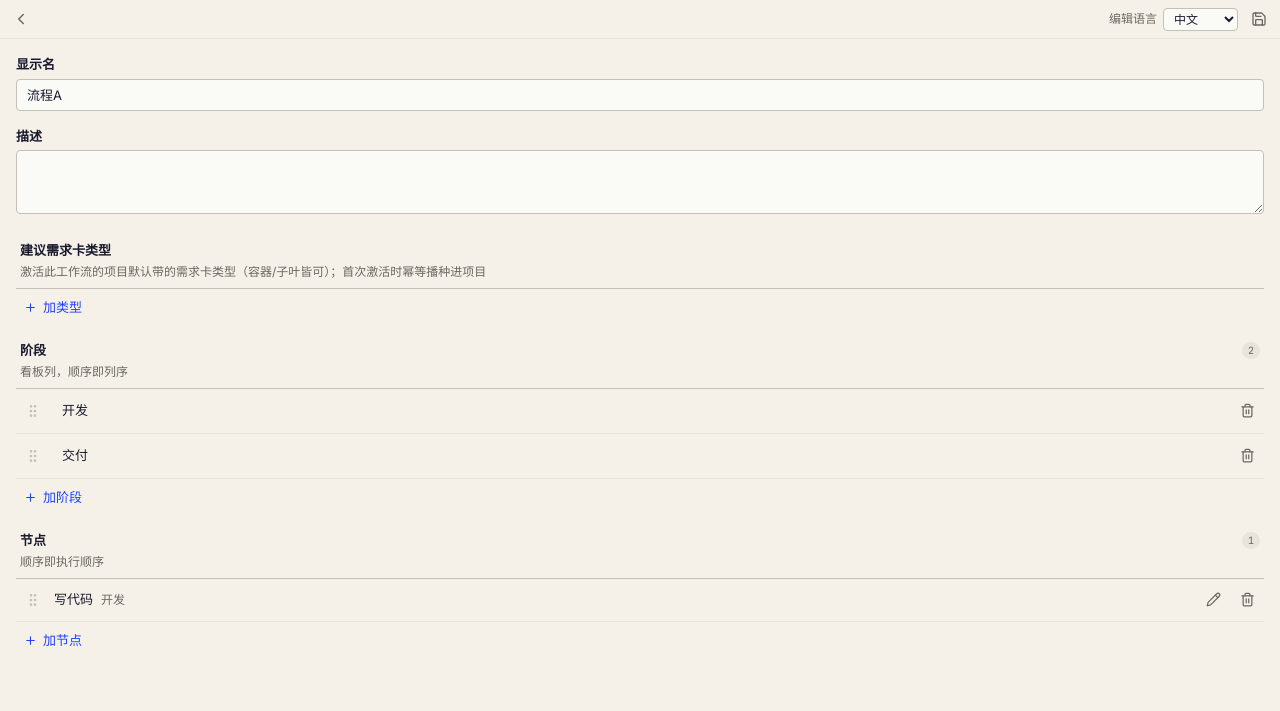
Test: WorkflowEditor 表单编辑 › 加产出：file 路径输入 + 模板只「不声明/从规则库引用」
Step 1. Click the button named "编辑节点 写代码" → {"x": 1213, "y": 600}, box [1200,586,1226,612]
(page scrolled)
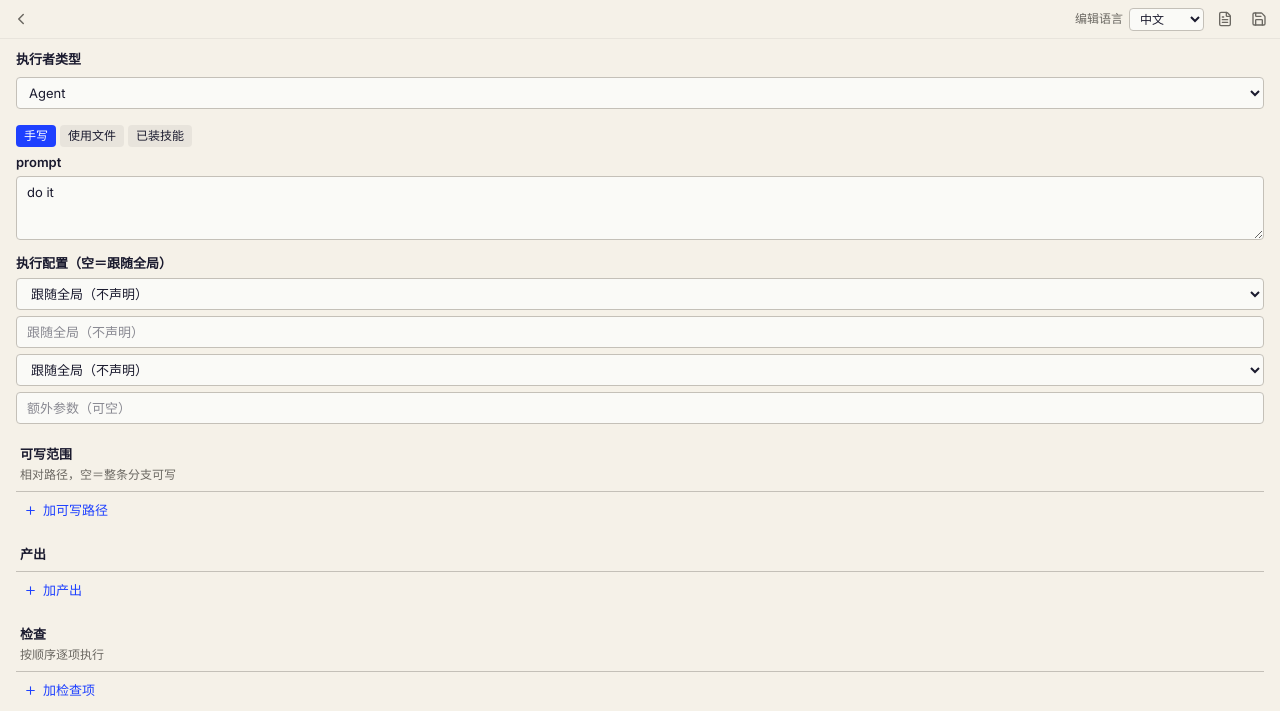
Step 2. Click the button "加产出" → {"x": 53, "y": 591}, box [16,578,90,604]
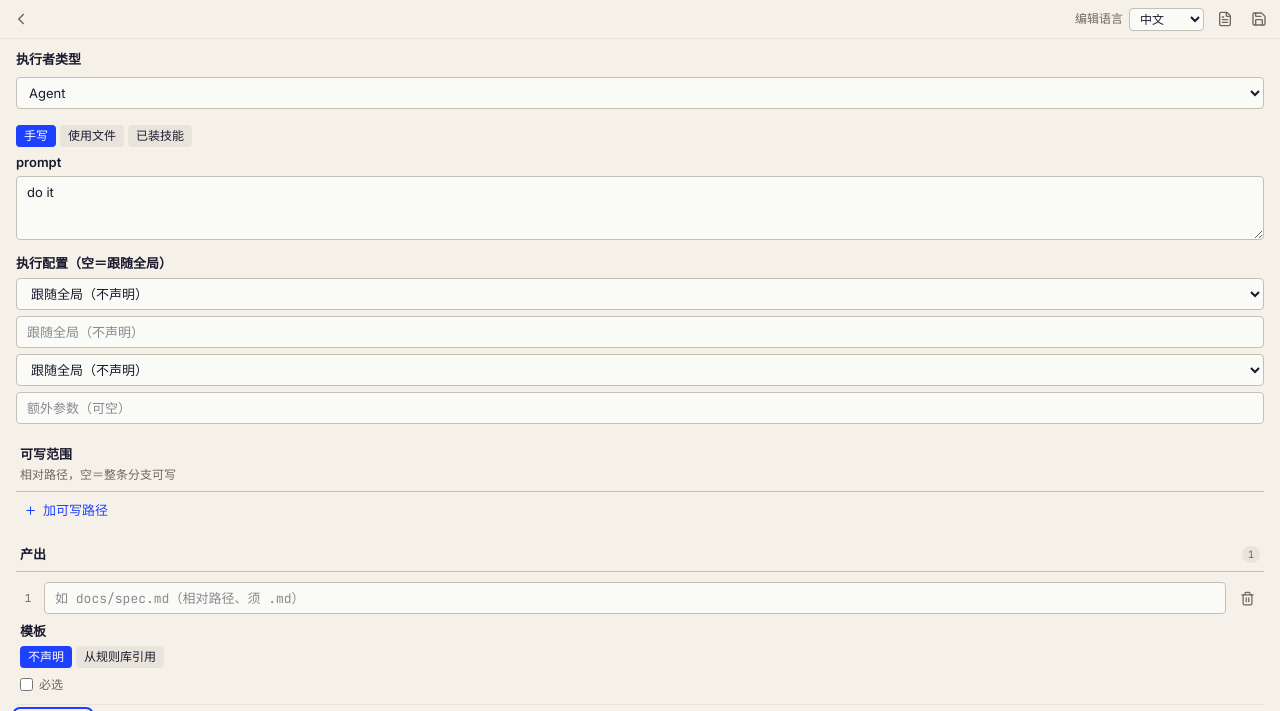
Now the field named "产出路径 1" is shown, box [44,582,1226,614]
Step 3. Click the radio button labelled "从规则库引用" → {"x": 120, "y": 657}, box [76,646,164,668]
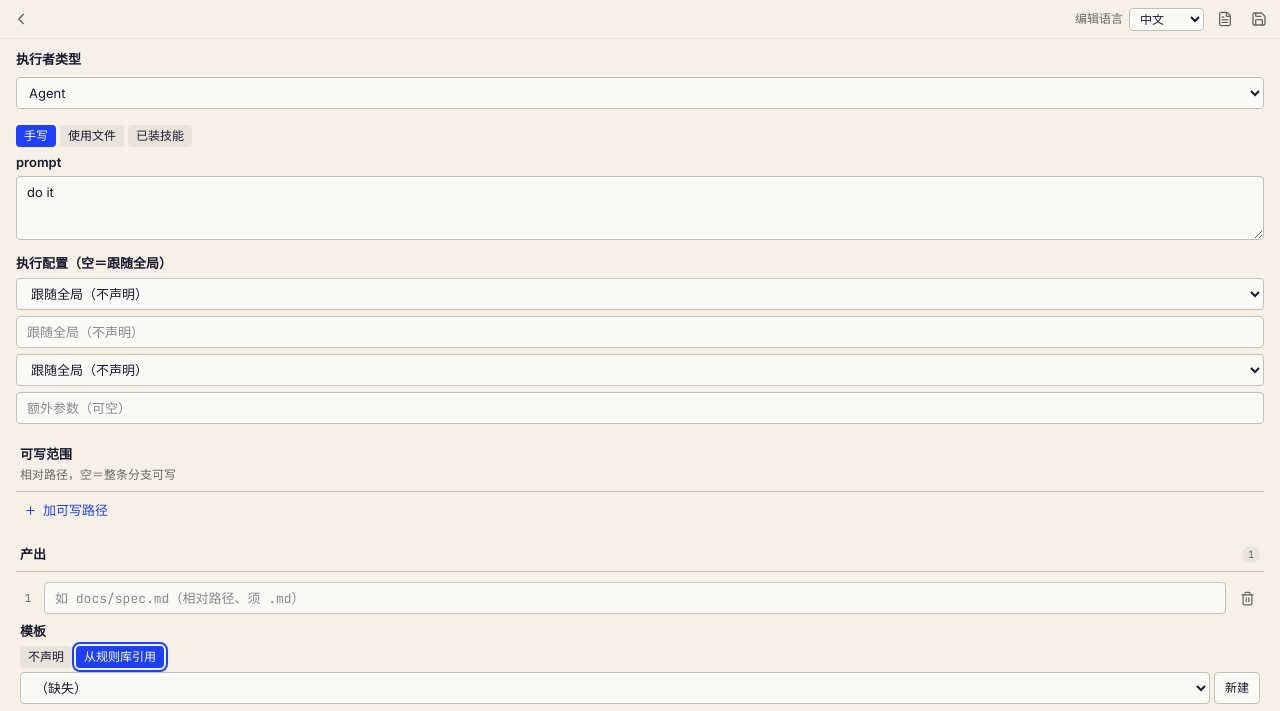
Now the dropdown named "产出模板引用 1" is shown, box [20,672,1210,704]
Now the button "新建" is shown, box [1214,672,1260,704]
